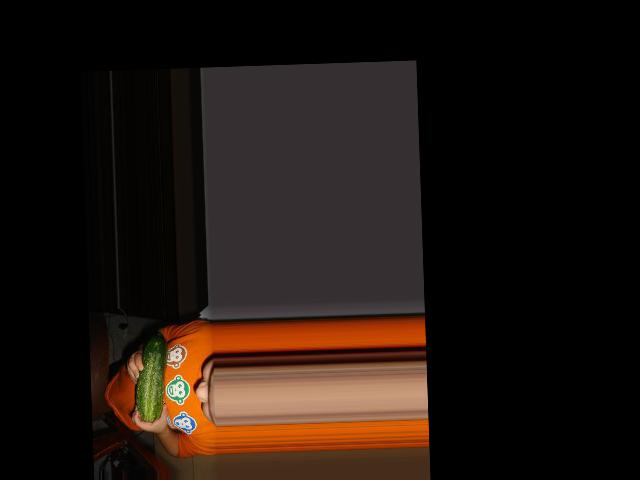cucumber: (133, 333, 169, 423)
